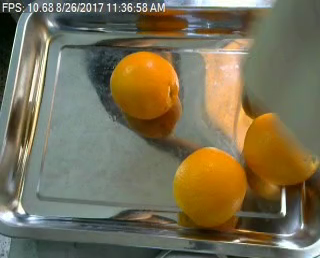Orange: (173, 146, 247, 227), (108, 49, 179, 118)
